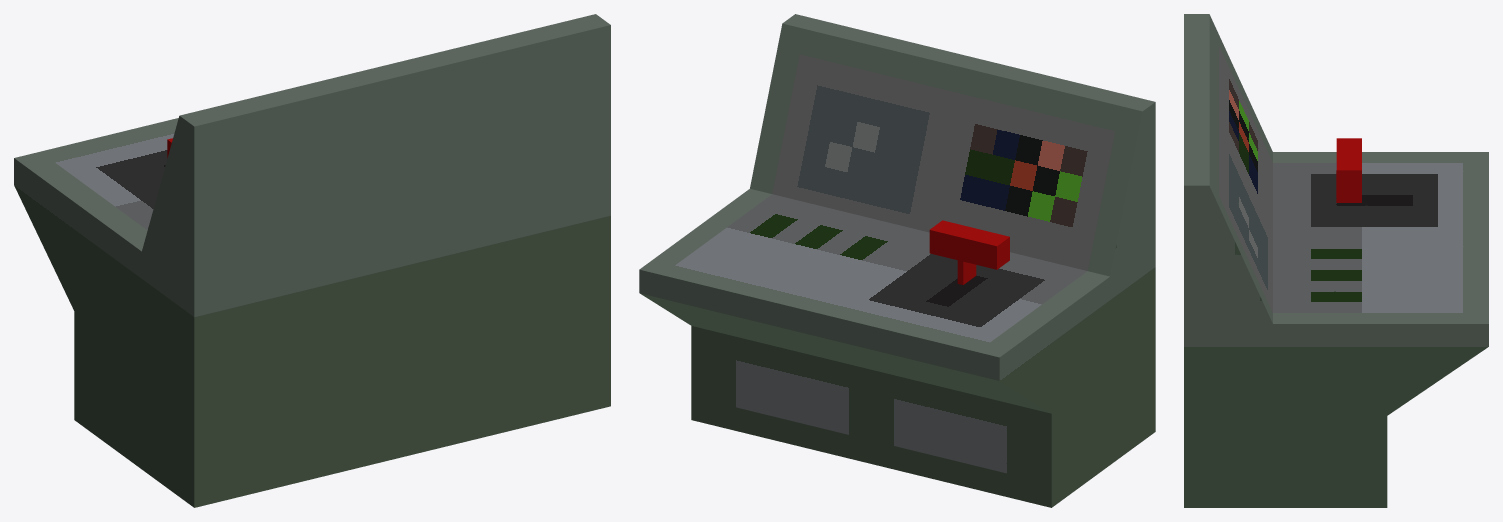
Rendered from Console.fbx.
The picture shows the model from 3 angles, left to right: view 1: azimuth 30°, elevation 25°; view 2: azimuth 150°, elevation 25°; view 3: azimuth 270°, elevation 25°; orthographic projection. The views are drawn at different scales.
Parts seen in each view (by area): view 1: cuboid; view 2: cuboid, cuboid_1; view 3: cuboid, cuboid_1.
Part boxes in pixels (box(x1,y1,x2,y2)): cuboid: box(14, 14, 610, 507); cuboid: box(639, 14, 1155, 507); cuboid_1: box(929, 220, 1009, 284); cuboid: box(1184, 14, 1488, 507); cuboid_1: box(1336, 138, 1361, 202).
Size of the model in its own units: 100 by 87.5 by 75.
2 materials, 2 textured.
